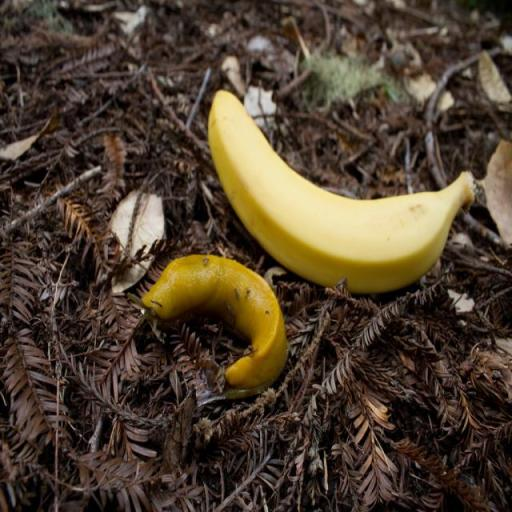fruit: (208, 91, 473, 292), (142, 255, 287, 398)
